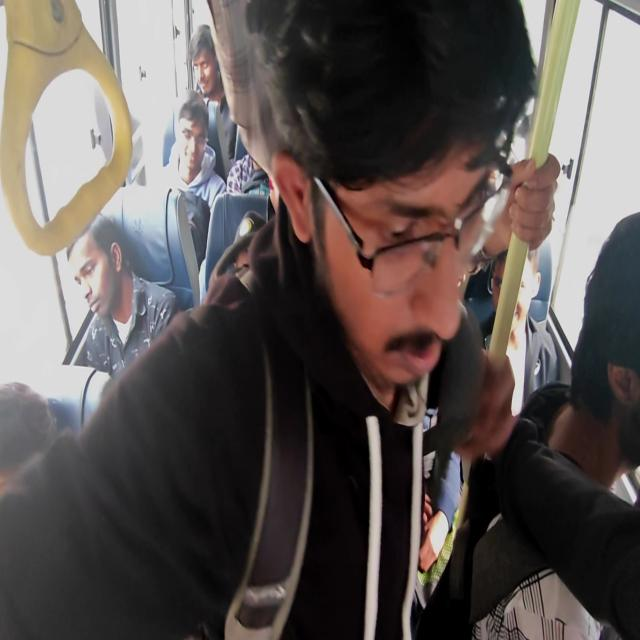person: (321, 132, 491, 403), (533, 208, 640, 511), (204, 202, 274, 310), (0, 381, 58, 495), (43, 376, 110, 444), (72, 233, 114, 321), (190, 21, 222, 98), (177, 114, 209, 169), (266, 163, 282, 218)
